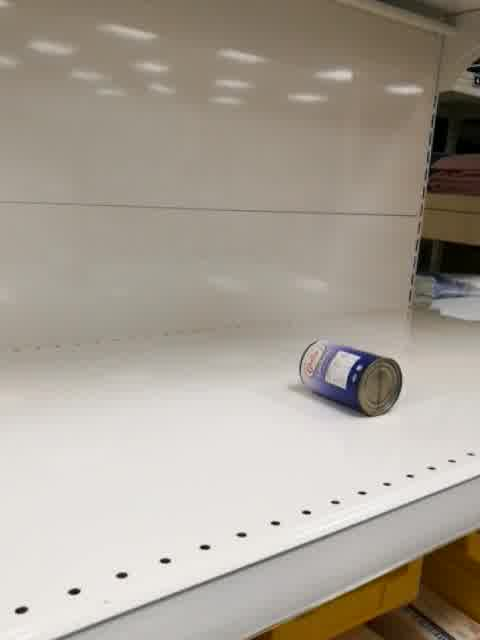sardine: (297, 338, 403, 419)
